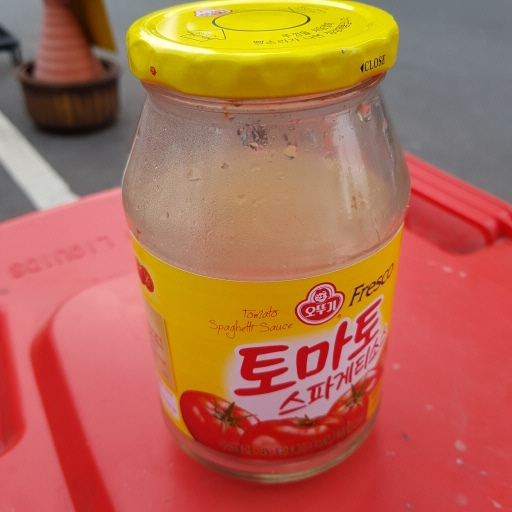Glass_5: (109, 1, 410, 481)
